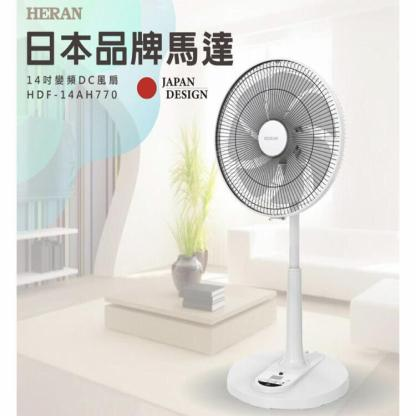fan: (214, 59, 357, 411)
